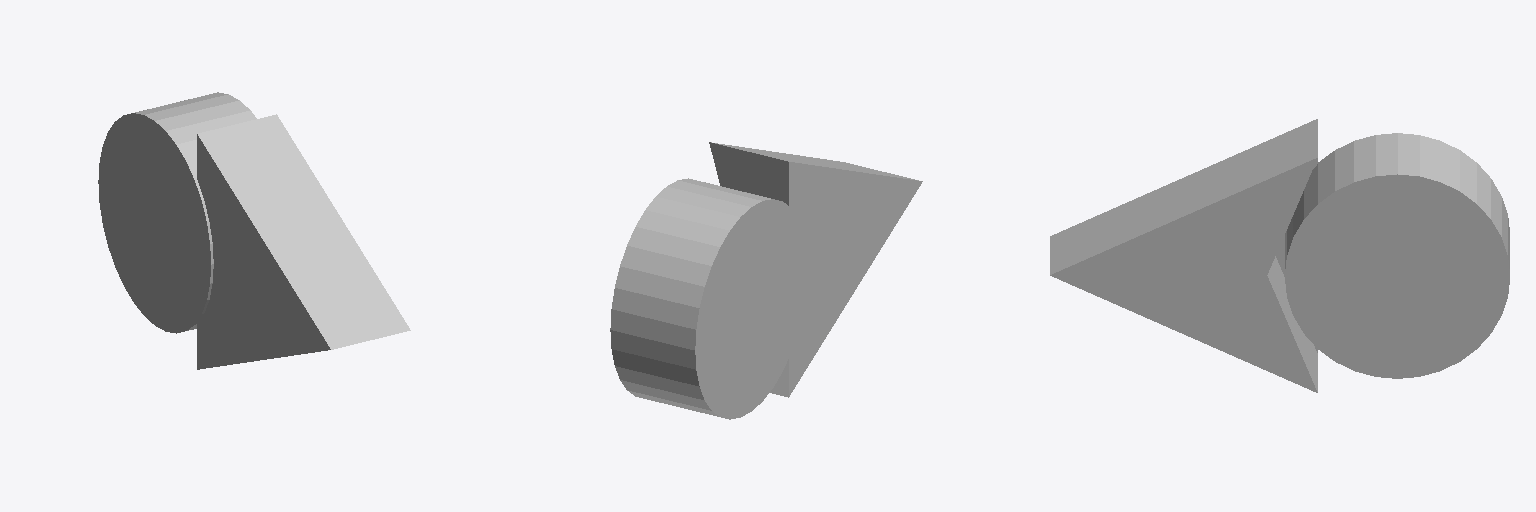
Rendered from playerModel v0.3.mtl.obj.
The picture shows the model from 3 angles: view 1: azimuth 30°, elevation 25°; view 2: azimuth 150°, elevation 25°; view 3: azimuth 270°, elevation 25°; orthographic projection.
Parts seen in each view (by area): view 1: Base_Cube.019, Cylinder; view 2: Cylinder, Base_Cube.019; view 3: Cylinder, Base_Cube.019.
Part boxes in pixels (bbox=[...]): Base_Cube.019: bbox=[197, 114, 410, 369]; Cylinder: bbox=[98, 92, 256, 333]; Cylinder: bbox=[610, 178, 807, 419]; Base_Cube.019: bbox=[709, 142, 922, 397]; Cylinder: bbox=[1285, 133, 1509, 378]; Base_Cube.019: bbox=[1050, 119, 1317, 392].
Bounding box in the file's own units: 1.06 × 2.83 × 5.